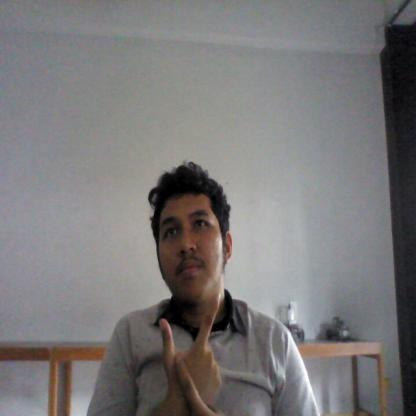Y: (158, 291, 224, 414)
